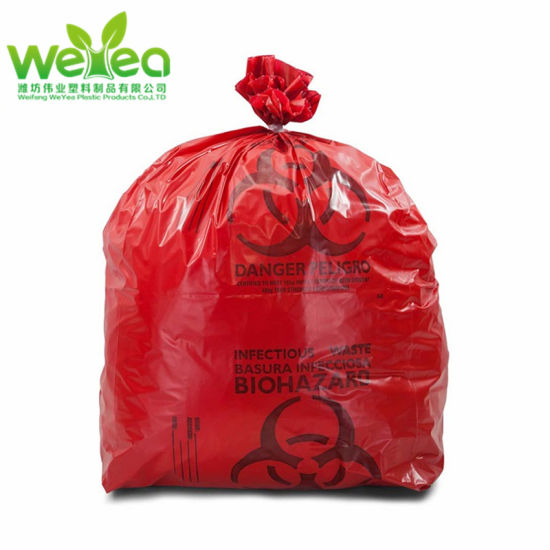plastic_bagwdw: (55, 65, 505, 530)
